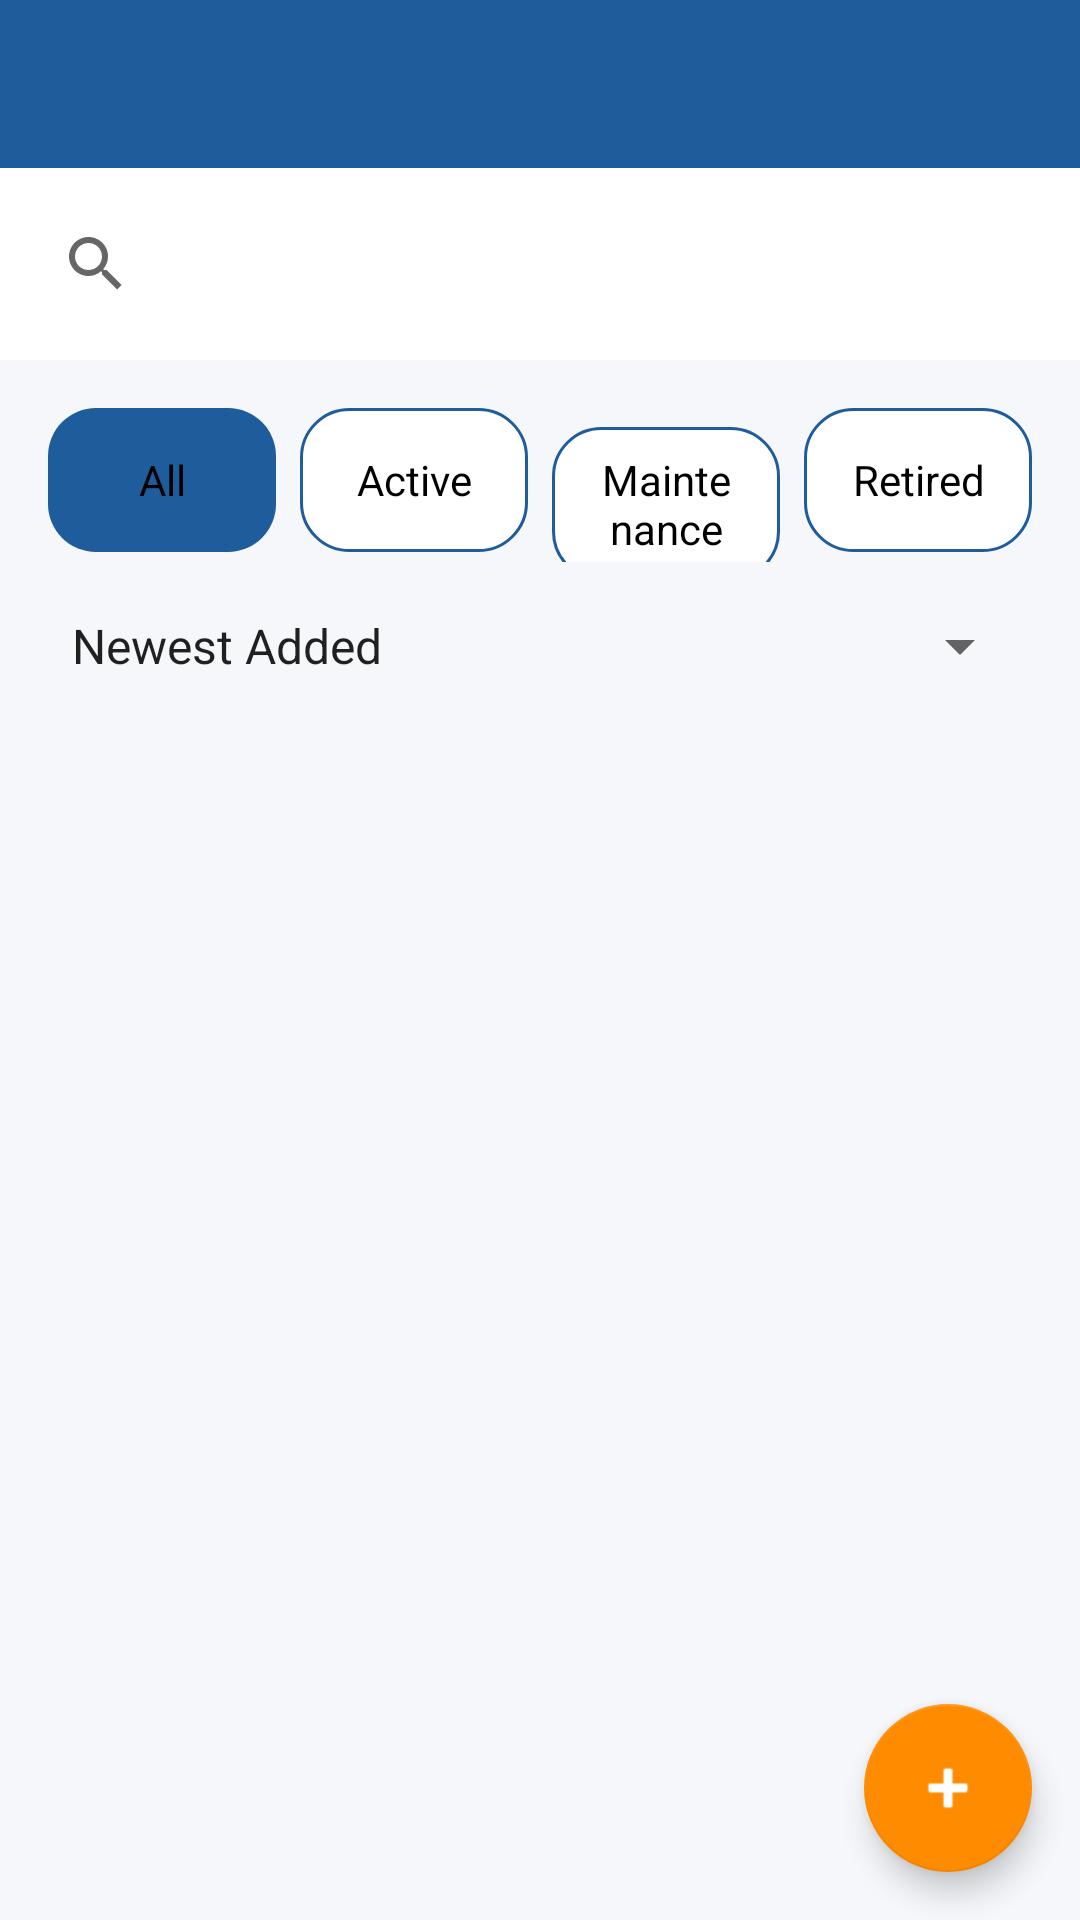

Screen size 1080 × 1920. Icon name, then its box in pixels as (x1, y1, x2, y2):
Add Vehicle: (864, 1704, 1032, 1872)
